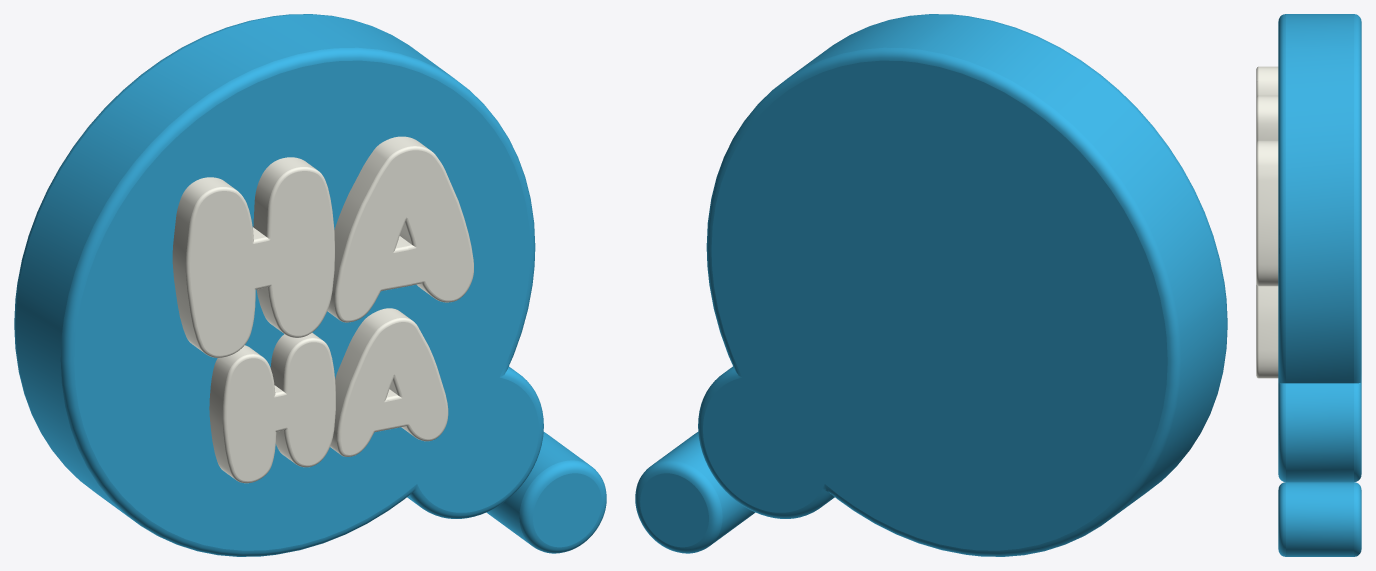
File: haha.glb
3 views of the same model, side by side, from view 1: azimuth 30°, elevation 25°; view 2: azimuth 150°, elevation 25°; view 3: azimuth 270°, elevation 25° (orthographic). The views are drawn at different scales.
Parts seen in each view (by area): view 1: Cap 1 (×2), bubbles, Rounding 1, glyph_haha, Rounding, Rounding 2; view 2: Cap 2, bubbles, Rounding 2, Rounding 1; view 3: bubbles, glyph_haha, Rounding 1, Rounding 2, Rounding.
Part boxes in pixels (x1,y1,x2,y2): Cap 1 (×2): (74, 60, 601, 550); bubbles: (15, 14, 588, 545); Rounding 1: (60, 47, 606, 556); glyph_haha: (172, 136, 431, 478); Rounding: (185, 146, 473, 483); Rounding 2: (14, 14, 367, 449); Cap 2: (640, 60, 1167, 550); bubbles: (653, 14, 1226, 545); Rounding 2: (635, 47, 1181, 556); Rounding 1: (874, 14, 1227, 449); bubbles: (1286, 14, 1353, 556); glyph_haha: (1258, 66, 1278, 378); Rounding 1: (1278, 14, 1285, 556); Rounding 2: (1354, 14, 1361, 556); Rounding: (1256, 66, 1258, 378).
Size of the model in its own units: 633 by 624 by 140.
